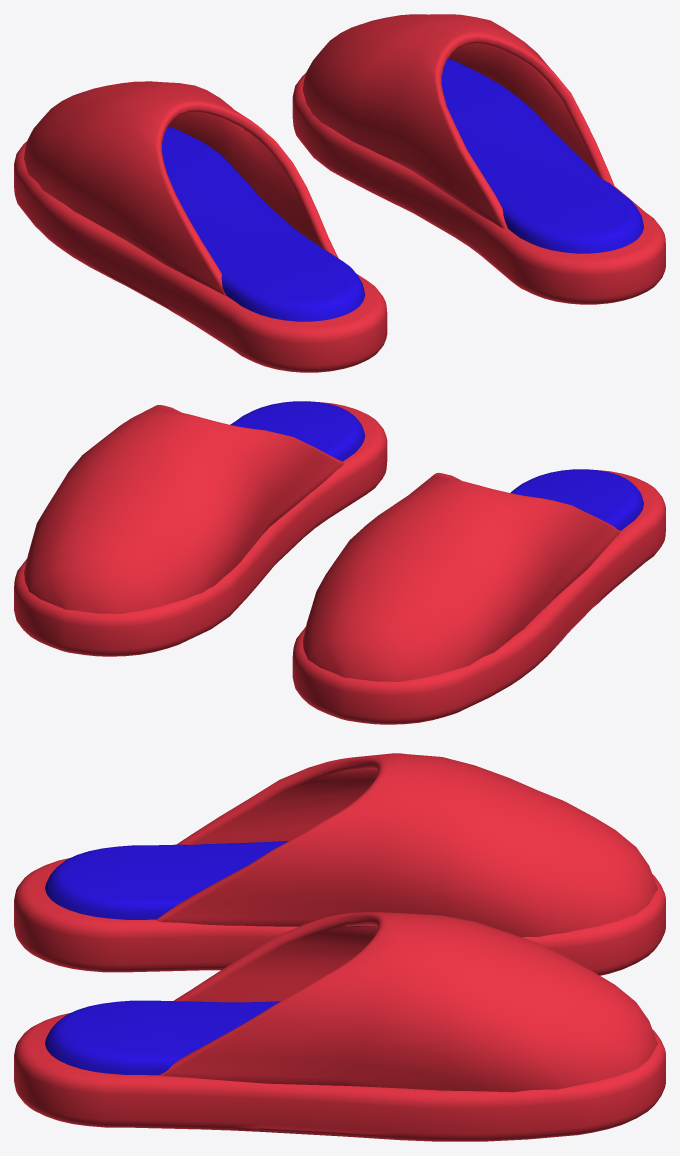
File: S_Chausson.fbx
3 renders of one model, top to bottom at view 1: azimuth 30°, elevation 25°; view 2: azimuth 150°, elevation 25°; view 3: azimuth 270°, elevation 25°, orthographic. The views are drawn at different scales.
Visible parts, largest first — view 1: Cylinder.027, Cube.048, Cube.047; view 2: Cylinder.027, Cube.047, Cube.048; view 3: Cylinder.027, Cube.047, Cube.048.
Part boxes in pixels (x1=…): Cylinder.027: x1=24, y1=14, x2=615, y2=295; Cube.048: x1=162, y1=58, x2=643, y2=321; Cube.047: x1=14, y1=73, x2=665, y2=372; Cylinder.027: x1=24, y1=405, x2=621, y2=681; Cube.047: x1=14, y1=402, x2=665, y2=724; Cube.048: x1=230, y1=401, x2=643, y2=530; Cylinder.027: x1=156, y1=753, x2=657, y2=1092; Cube.047: x1=14, y1=858, x2=665, y2=1141; Cube.048: x1=45, y1=841, x2=288, y2=1075.
Size of the model in its own units: 34.4 by 10.59 by 36.3.
